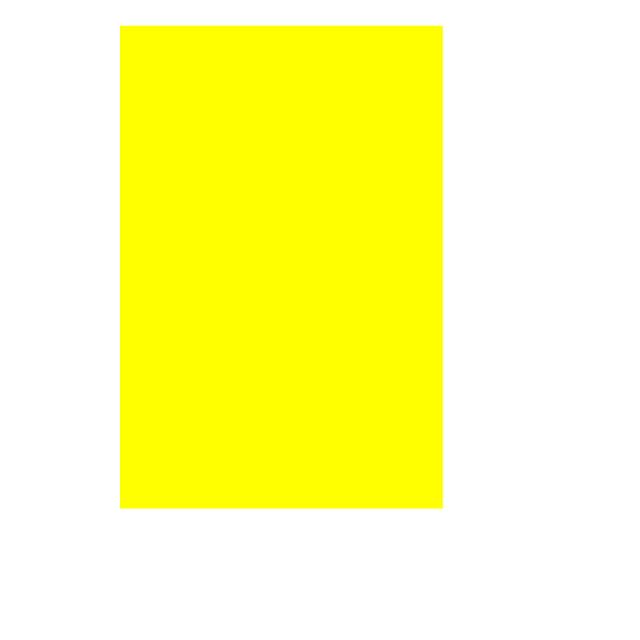Rectangle: (86, 10, 486, 526)
